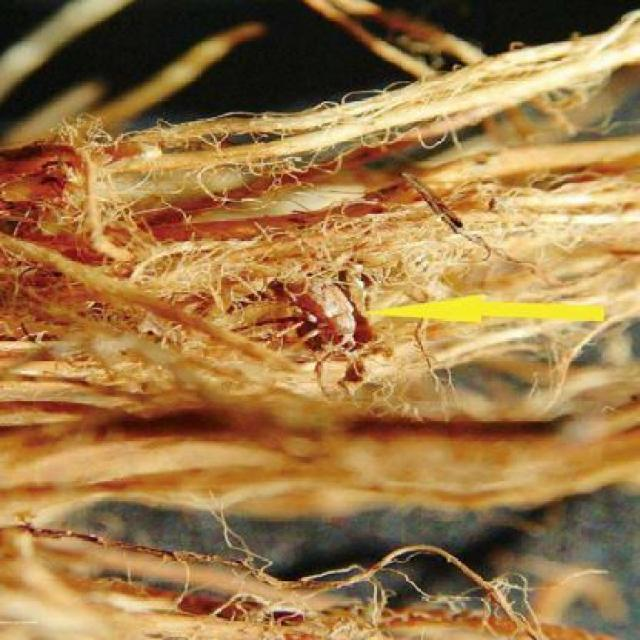rice-bug: (271, 266, 360, 365)
